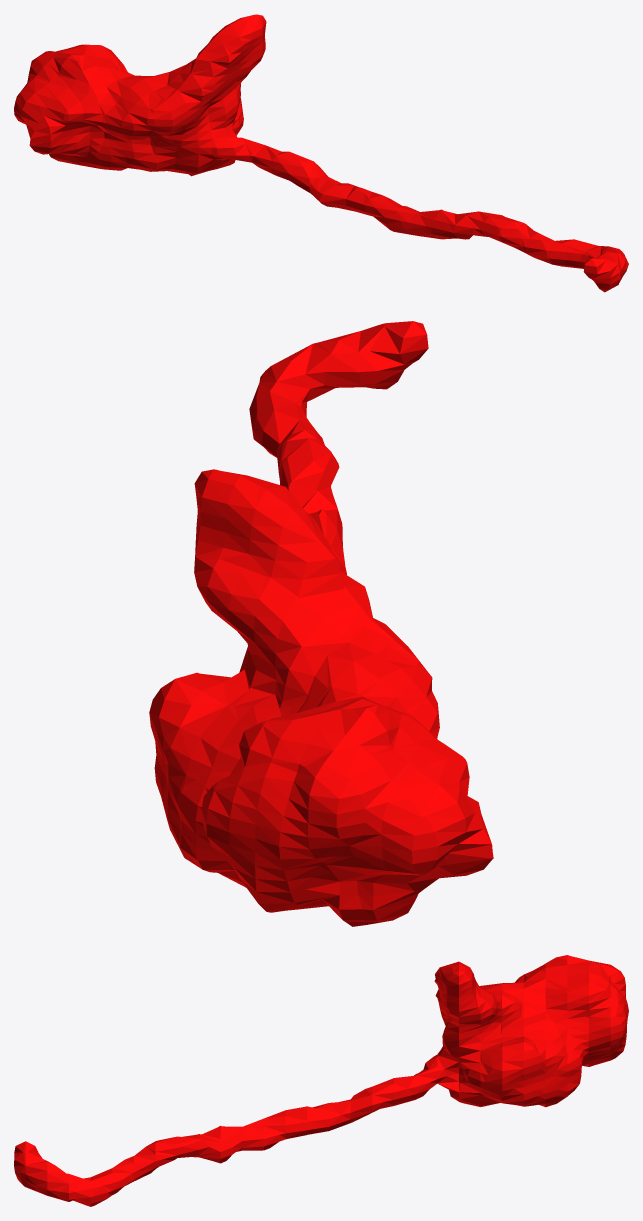
File: baeS_coarse.dae
3 views of the same model, one above another, from view 1: azimuth 30°, elevation 25°; view 2: azimuth 150°, elevation 25°; view 3: azimuth 270°, elevation 25° (orthographic). The views are drawn at different scales.
Visible parts, largest first — view 1: baeS; view 2: baeS; view 3: baeS.
Part boxes in pixels (<box>): baeS: <box>14,14,628,292</box>; baeS: <box>149,321,493,926</box>; baeS: <box>14,955,628,1206</box>.
Bounding box in the file's own units: 140 × 61.92 × 210.
